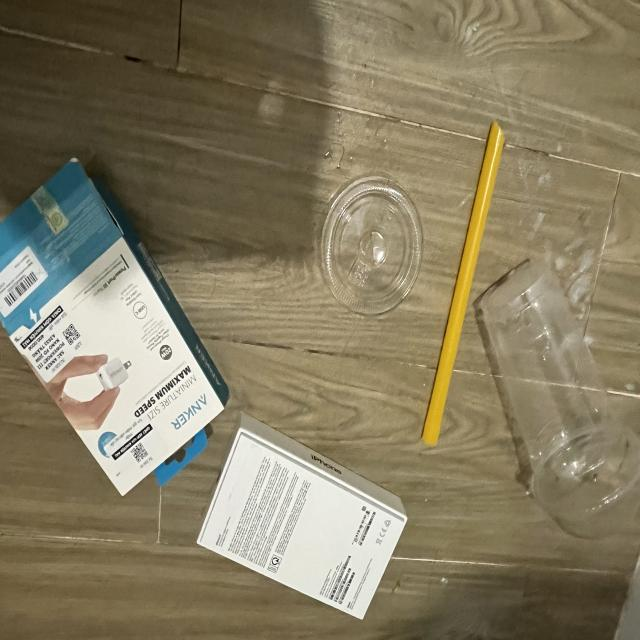cardboard box: (0, 158, 231, 500), (195, 411, 408, 617)
drinking straw: (423, 120, 505, 447)
lid: (322, 175, 424, 316)
plastic glass: (478, 256, 640, 515)
